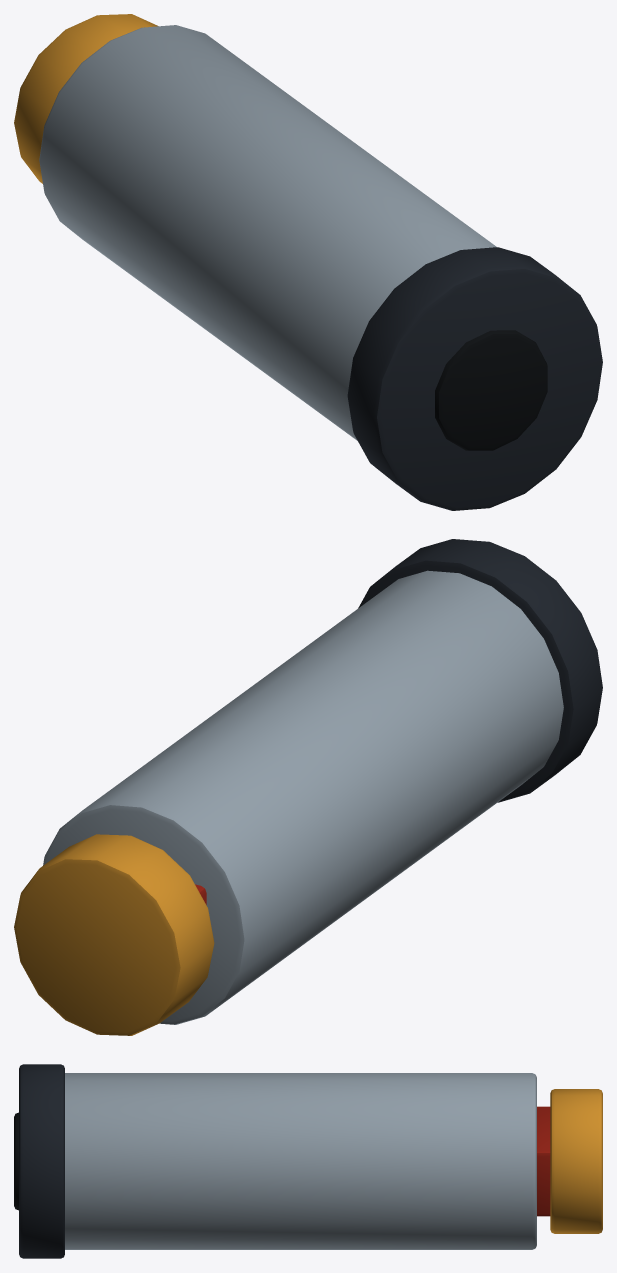
The model's file is CannonB.obj.
The picture shows the model from 3 angles, top to bottom: view 1: azimuth 30°, elevation 25°; view 2: azimuth 150°, elevation 25°; view 3: azimuth 270°, elevation 25°; orthographic projection. The views are drawn at different scales.
Visible parts, largest first — view 1: CannonB; view 2: CannonB; view 3: CannonB.
Boxes of the visible parts, left/top/right/bottom form: CannonB: left=14, top=14, right=602, bottom=510; CannonB: left=14, top=539, right=602, bottom=1035; CannonB: left=14, top=1064, right=602, bottom=1258.
Size of the model in its own units: 0.594 by 0.594 by 1.79.
